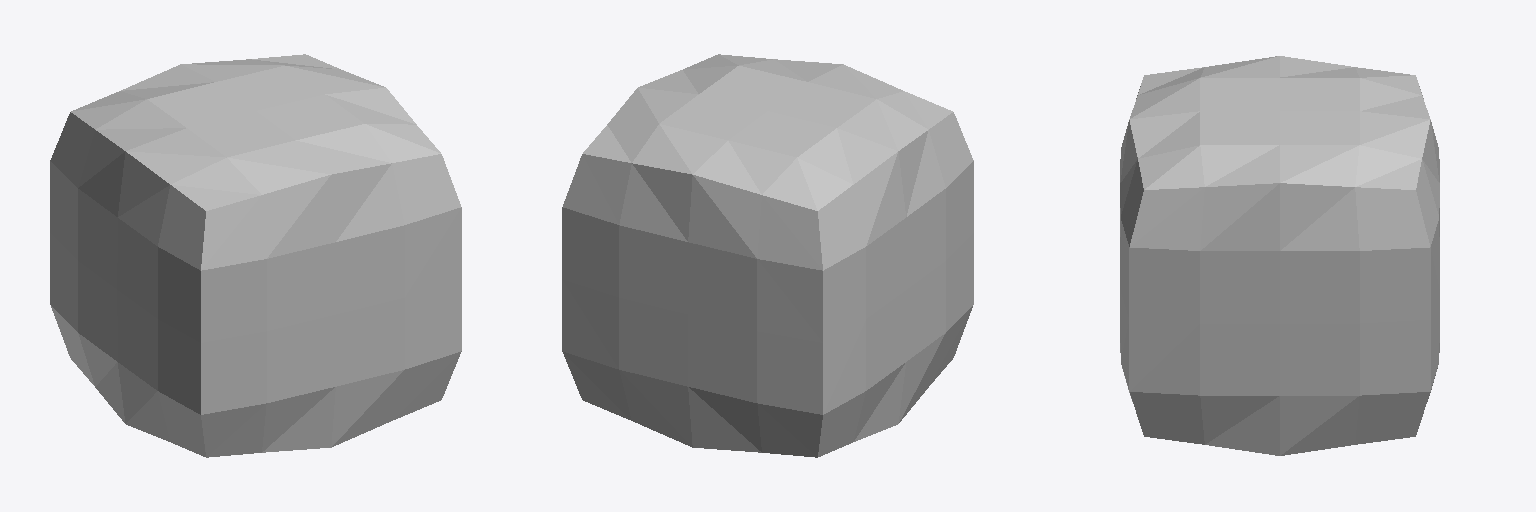
Rendered from wallCube2.obj.
3 renders of one model, left to right at view 1: azimuth 30°, elevation 25°; view 2: azimuth 150°, elevation 25°; view 3: azimuth 270°, elevation 25°, orthographic.
Visible parts, largest first — view 1: Cube_Cube.002; view 2: Cube_Cube.002; view 3: Cube_Cube.002.
Part boxes in pixels (left/top/right/bottom): Cube_Cube.002: left=50, top=54, right=461, bottom=457; Cube_Cube.002: left=562, top=54, right=973, bottom=457; Cube_Cube.002: left=1120, top=56, right=1439, bottom=455.
Bounding box in the file's own units: 8 × 8 × 8.